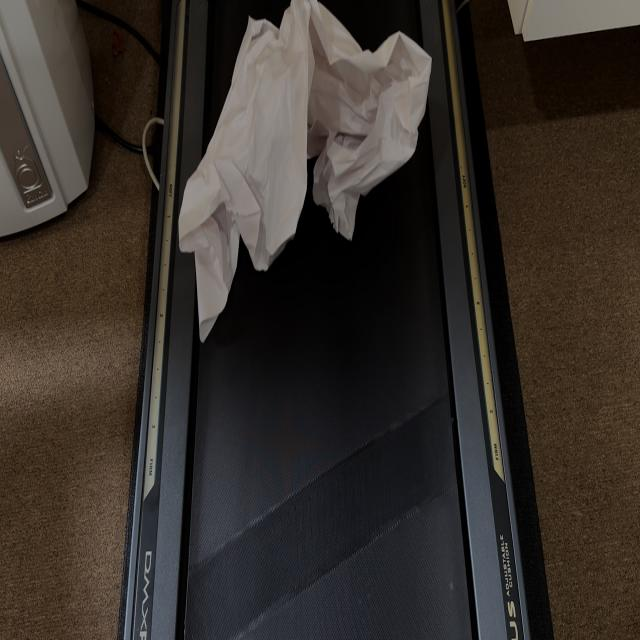Trash: (202, 20, 440, 338)
